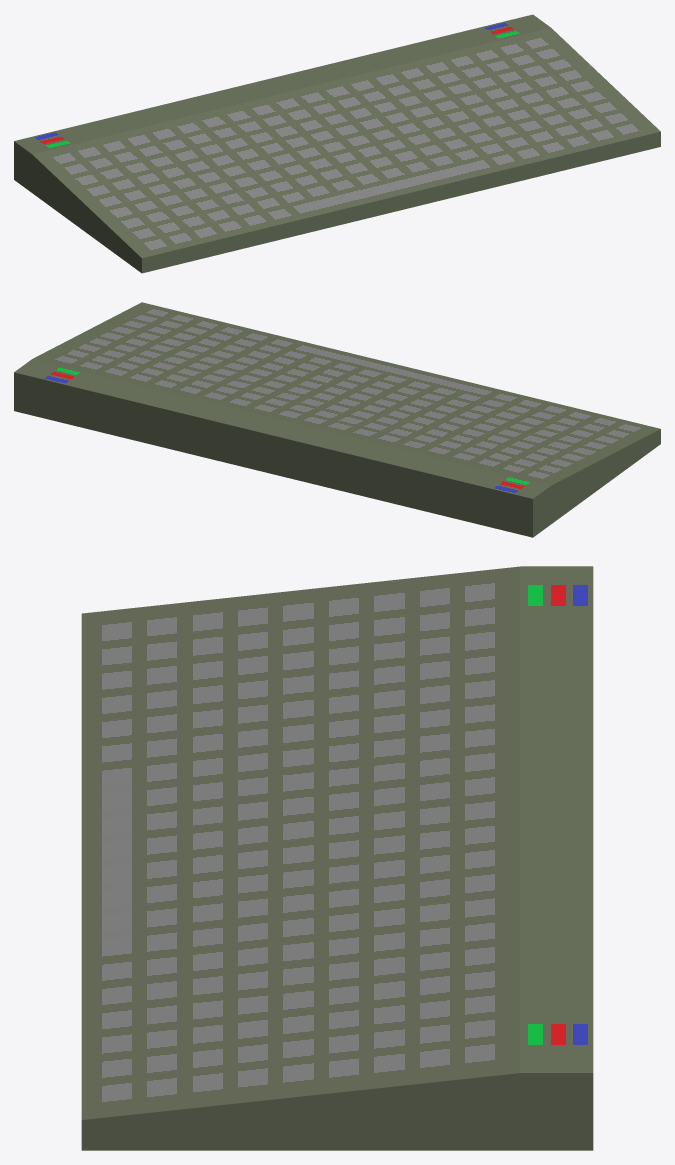
The model's file is Keyboard.fbx.
3 views of the same model, one above another, from view 1: azimuth 30°, elevation 25°; view 2: azimuth 150°, elevation 25°; view 3: azimuth 270°, elevation 25° (orthographic). The views are drawn at different scales.
Visible parts, largest first — view 1: Keyboard; view 2: Keyboard; view 3: Keyboard.
Part boxes in pixels (left/top/right/bottom): Keyboard: left=14, top=14, right=660, bottom=273; Keyboard: left=14, top=302, right=660, bottom=537; Keyboard: left=81, top=566, right=593, bottom=1150.
Size of the model in its own units: 72 by 5.13 by 30.74.
1 material, 1 textured.
